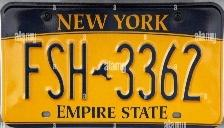2: (182, 39, 204, 103)
3: (114, 40, 136, 99), (138, 40, 156, 101)
6: (158, 40, 181, 102)
F: (21, 38, 45, 102)
H: (66, 41, 90, 103)
S: (43, 40, 66, 101)
